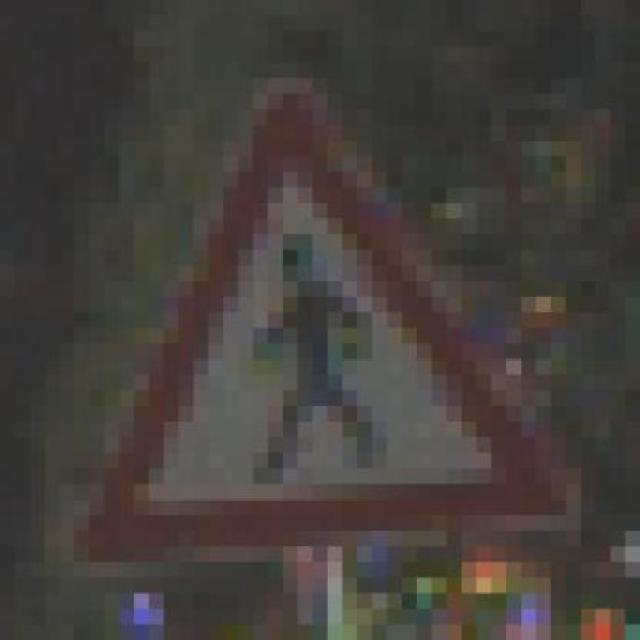Pedestrian Crossing: (74, 62, 595, 578)
